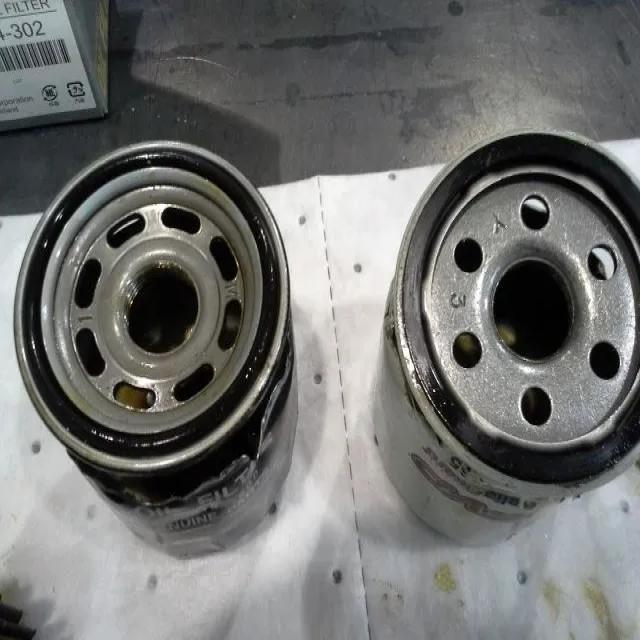oil_filter: (16, 134, 301, 553), (390, 126, 640, 574)
